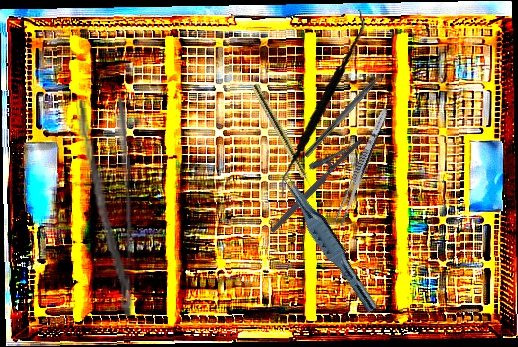Chopper: (303, 62, 396, 164)
Dressing Forceps: (76, 98, 136, 318), (332, 105, 392, 227)
Handpiece: (249, 83, 320, 199)
Needle Holder: (256, 122, 369, 234)
Spatula Surgical: (259, 9, 383, 199)
Tissue Forceps: (272, 169, 386, 314)
